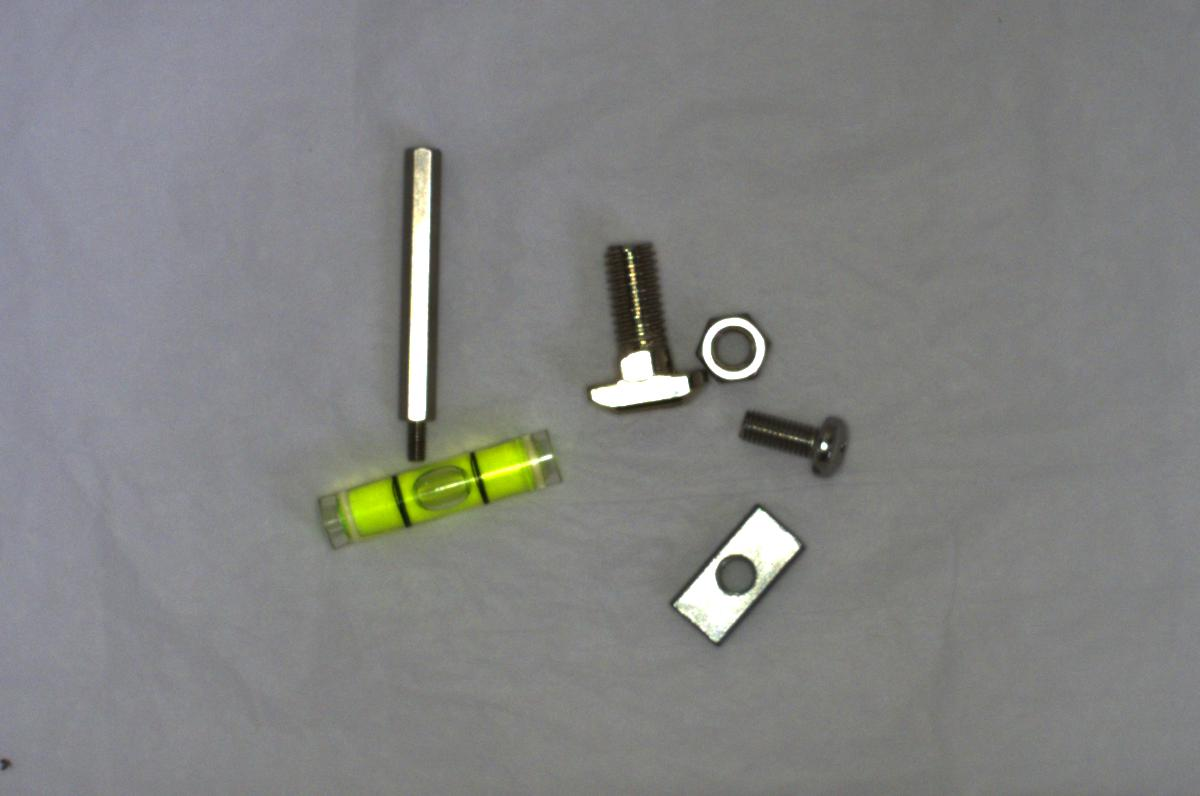Hexagon nut: (690, 308, 773, 388)
Hexagonal steel column: (386, 136, 433, 467)
Horizontal bubble: (305, 423, 564, 549)
Rectangular nut: (666, 501, 811, 646)
Round head screw: (727, 406, 864, 483)
T-shaped screw: (585, 232, 704, 412)
